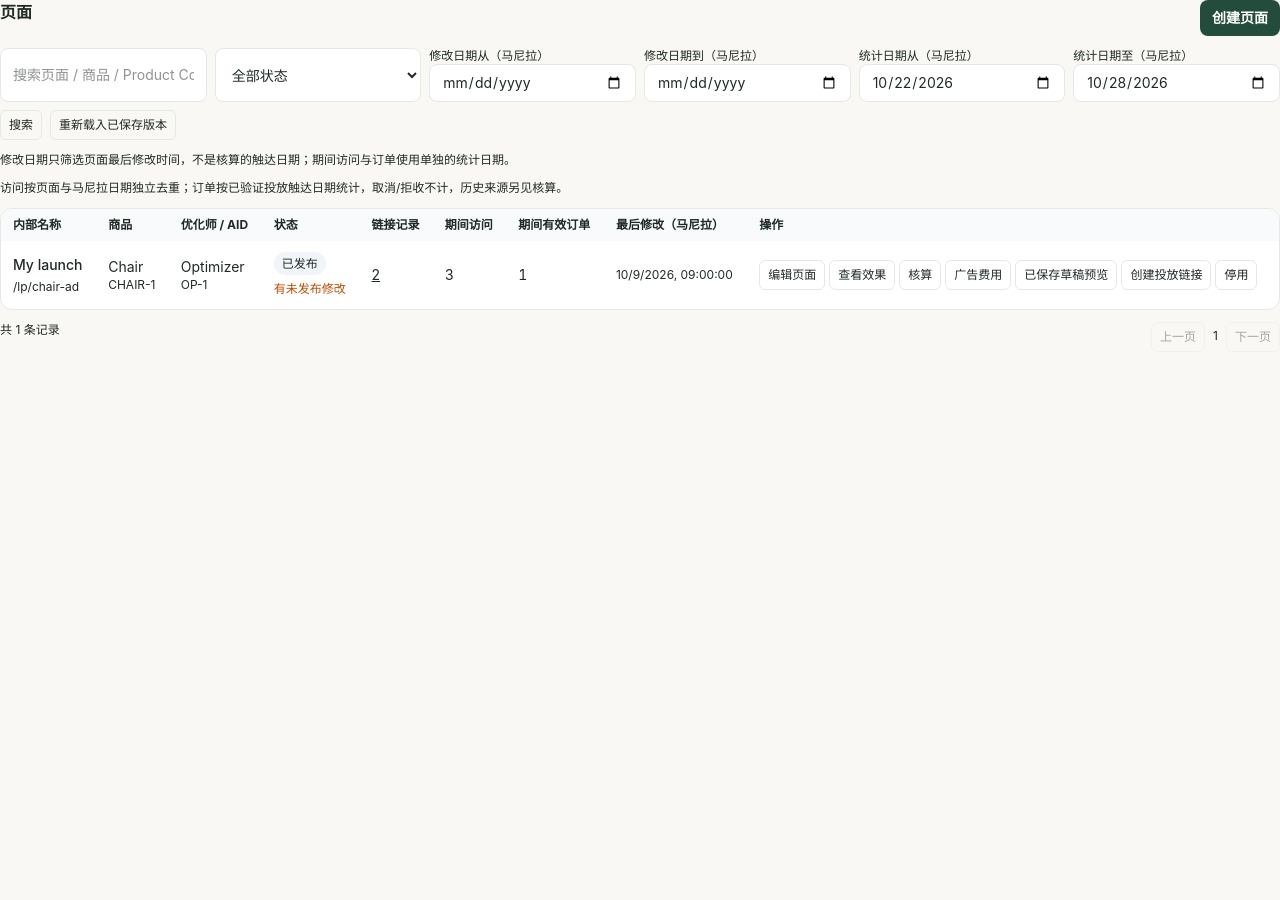
Test: marketing page workbench › keeps the parent picker usable and shows each candidate product's photo
Expected: the text "My launch" is shown, [13, 255, 84, 275]
Click the button "创建页面".
click(1240, 18)  # box [1200, 0, 1279, 36]
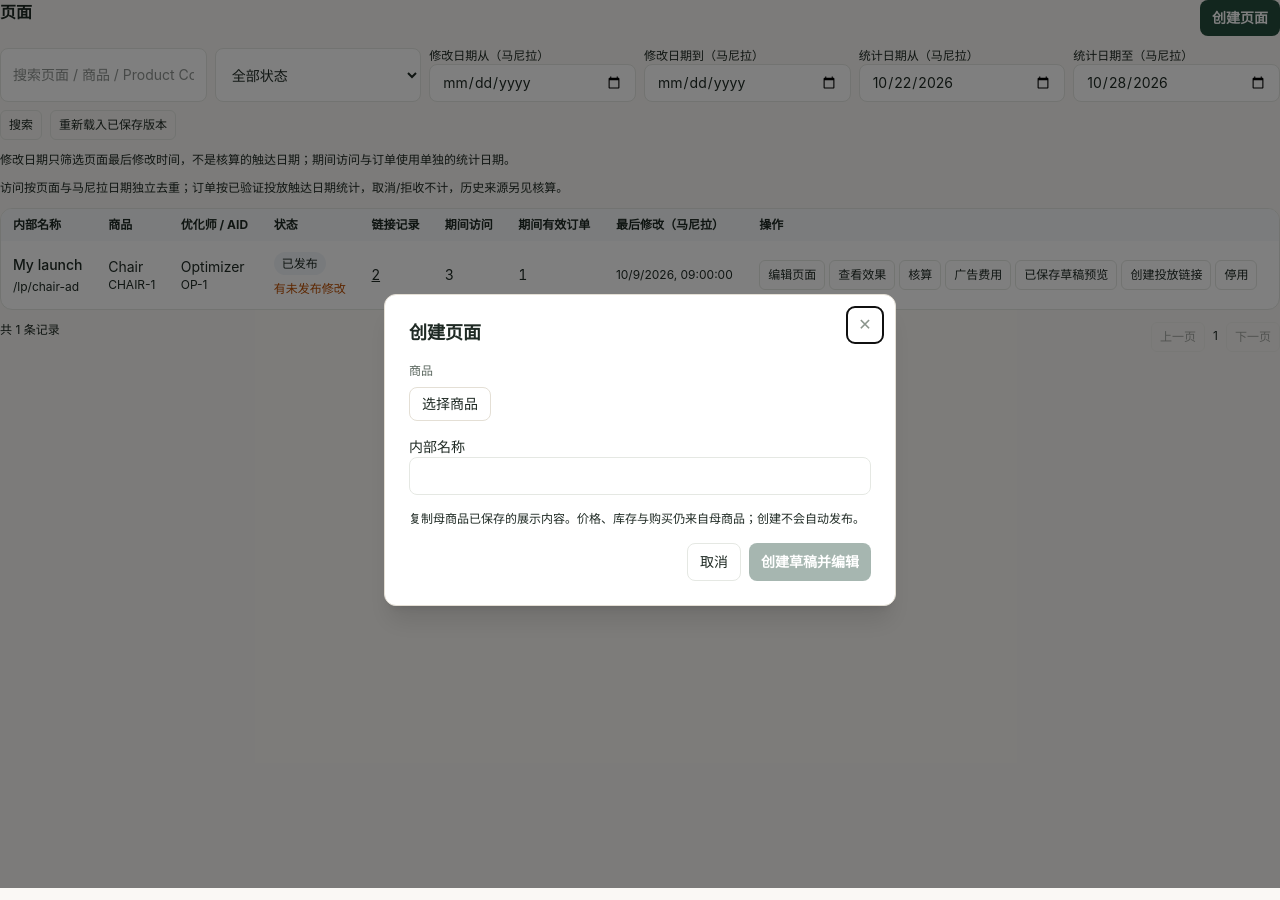
Click the button with test id "marketing-page-product-open".
click(450, 404)  # box [409, 387, 491, 421]
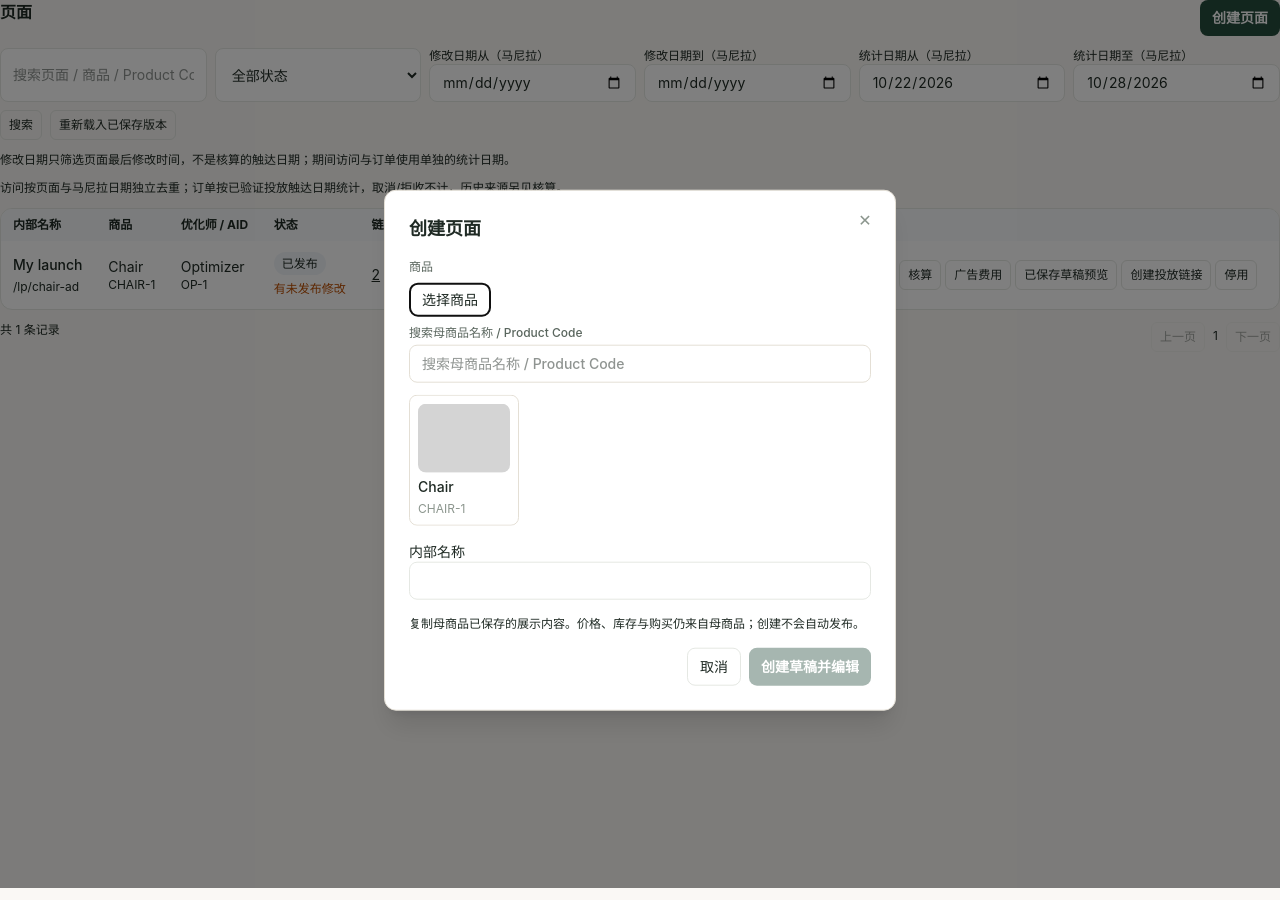
Expected: the button with test id "marketing-page-product-grid-option-chair" shows "Chair"
Click the button with test id "marketing-page-product-grid-option-chair".
click(464, 460)  # box [409, 395, 518, 525]
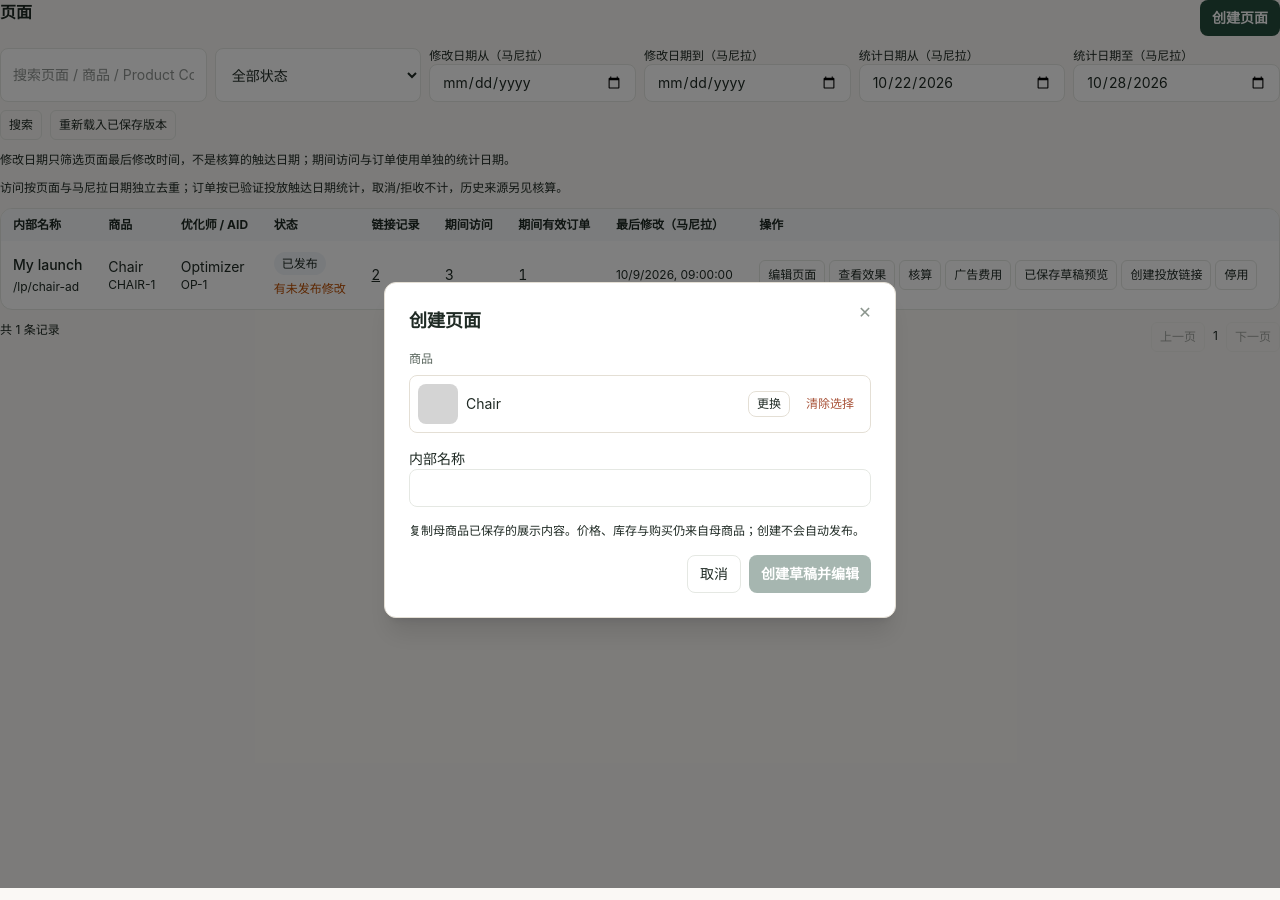
Expected: the element with test id "marketing-page-product-current" shows "Chair", [466, 395, 501, 412]
